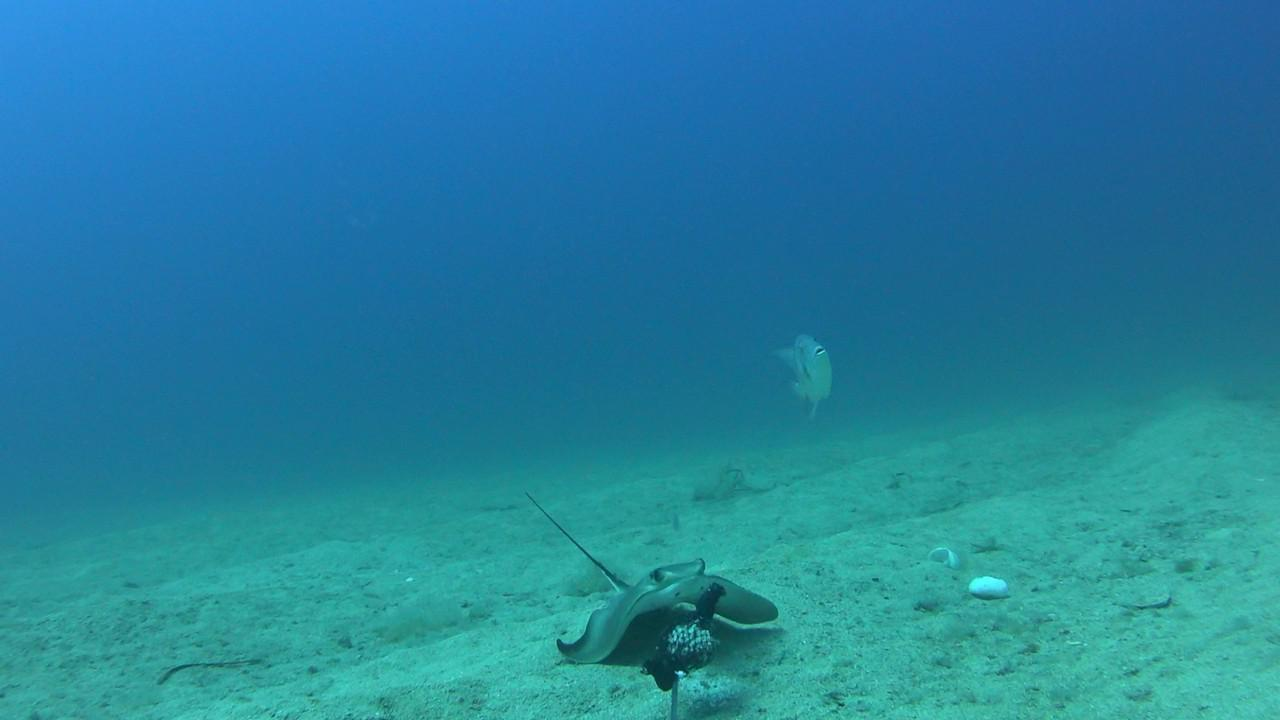balistes: (767, 328, 836, 426)
myliobatis: (507, 467, 796, 652)
